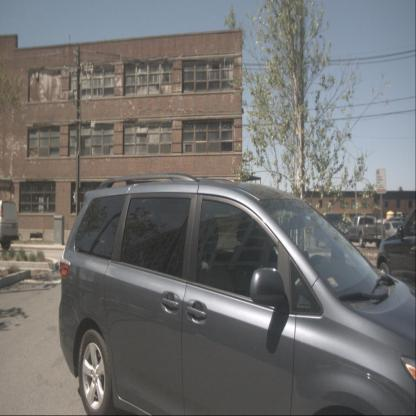vehicle-car: (58, 172, 416, 416), (376, 202, 416, 306), (0, 199, 20, 250), (378, 220, 409, 246)
vehicle-truck: (313, 212, 349, 250), (346, 215, 386, 248)
